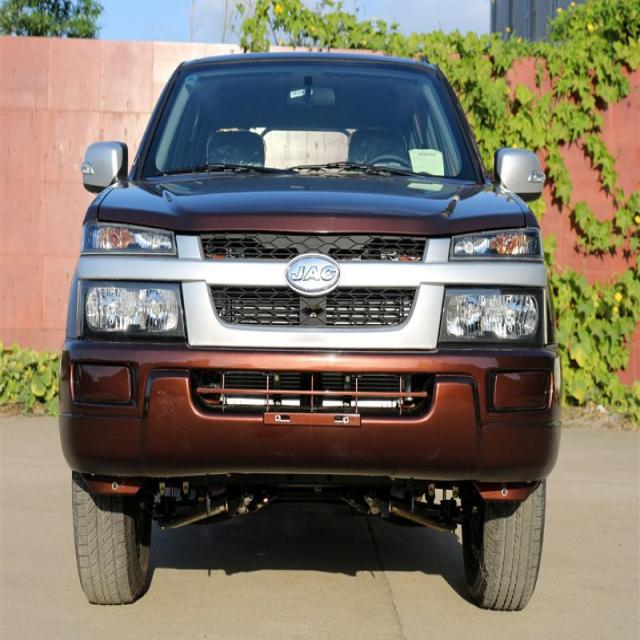front_bumper: (55, 331, 565, 499)
front_glass: (138, 62, 480, 187)
front_left_side_light: (436, 222, 551, 354)
front_left_side_mirror: (489, 143, 544, 205)
front_right_side_light: (77, 216, 189, 351)
front_right_side_mirror: (80, 138, 126, 201)
wheel: (462, 475, 549, 610), (70, 470, 152, 605)
